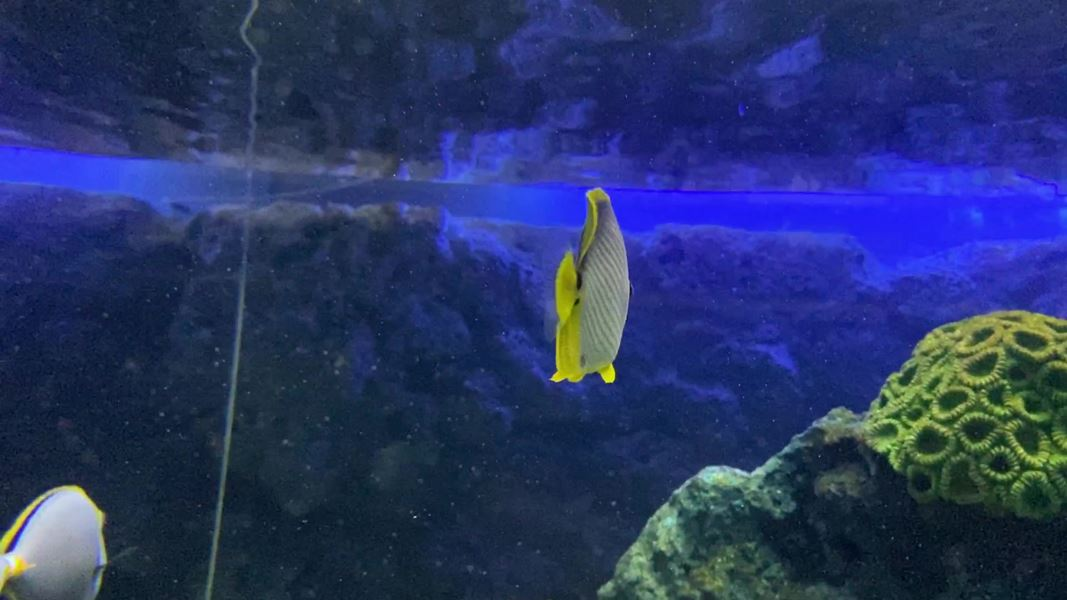Black-backed butterflyfish: (529, 176, 646, 395)
